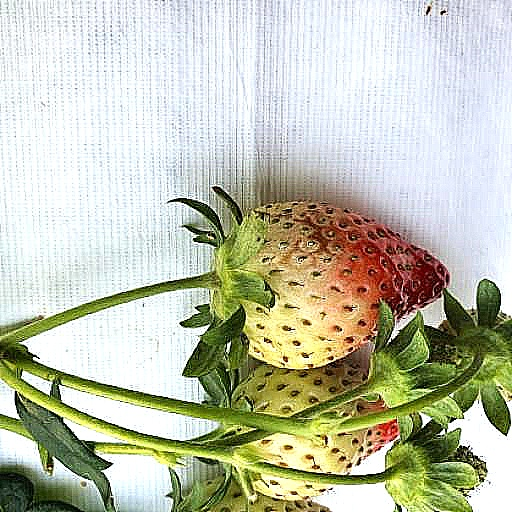Powdery Mildew Fruit: (230, 142, 451, 310)
